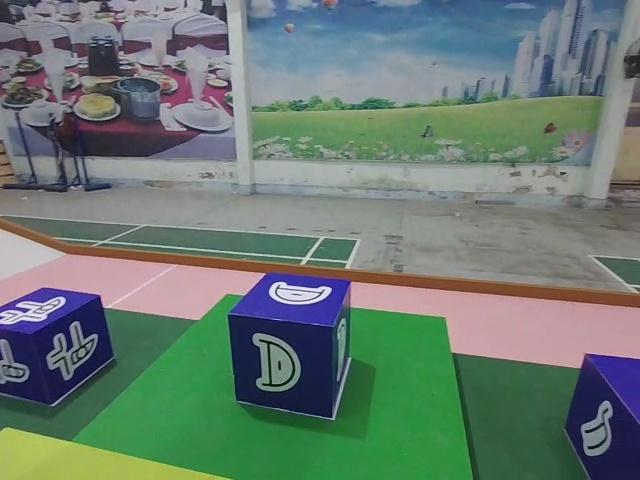R2 Real Blue: (227, 271, 351, 422), (2, 287, 117, 409), (566, 352, 640, 480)
